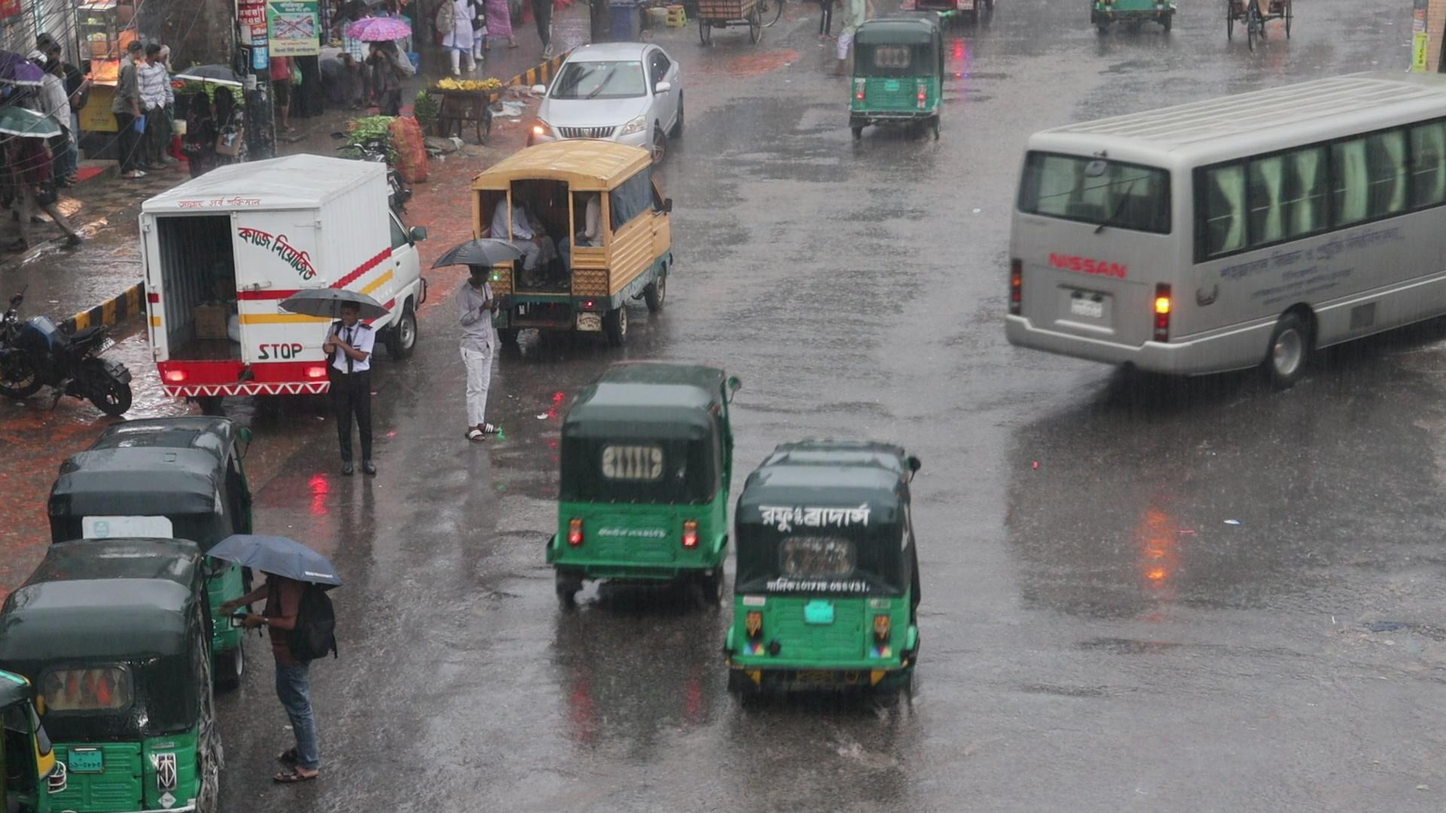Bus: (993, 64, 1446, 400)
Car: (533, 37, 679, 164)
Truck: (469, 139, 680, 358)
